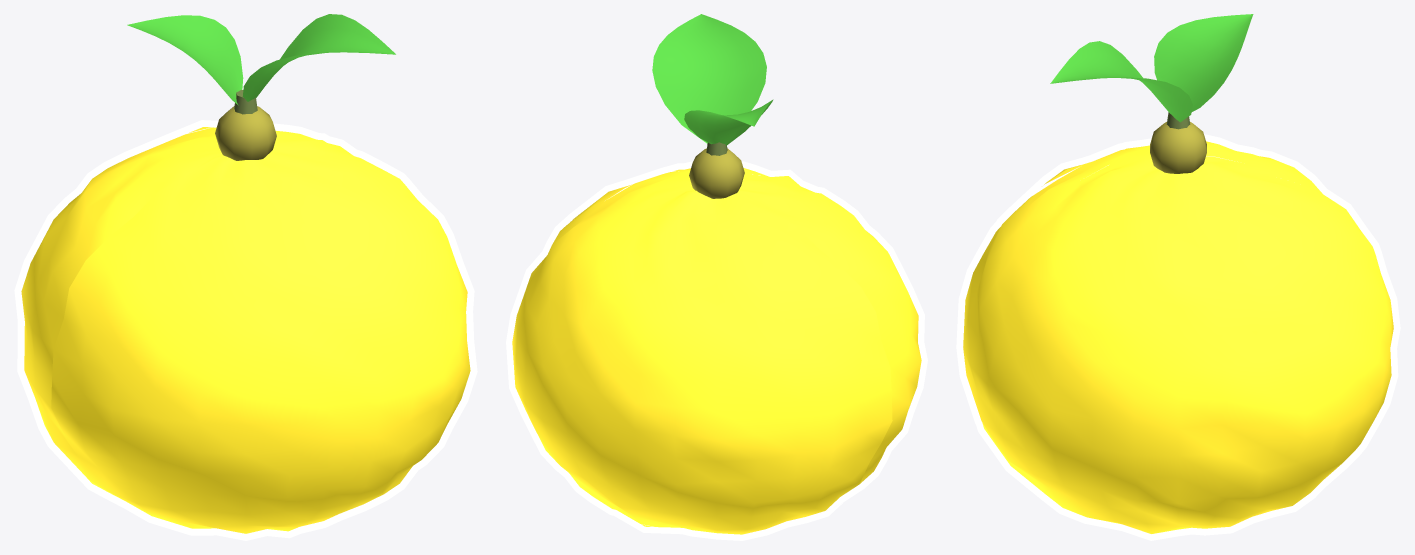
The model's file is pickup_yuzu.49339553.glb.
The picture shows the model from 3 angles, left to right: view 1: azimuth 30°, elevation 25°; view 2: azimuth 150°, elevation 25°; view 3: azimuth 270°, elevation 25°; orthographic projection. The views are drawn at different scales.
Visible parts, largest first — view 1: pickup_yuzu; view 2: pickup_yuzu; view 3: pickup_yuzu.
Part boxes in pixels (x1,y1,x2,y2): pickup_yuzu: (14, 14, 477, 540); pickup_yuzu: (506, 14, 927, 540); pickup_yuzu: (956, 14, 1400, 540).
Size of the model in its own units: 0.3271 by 0.38 by 0.326.
